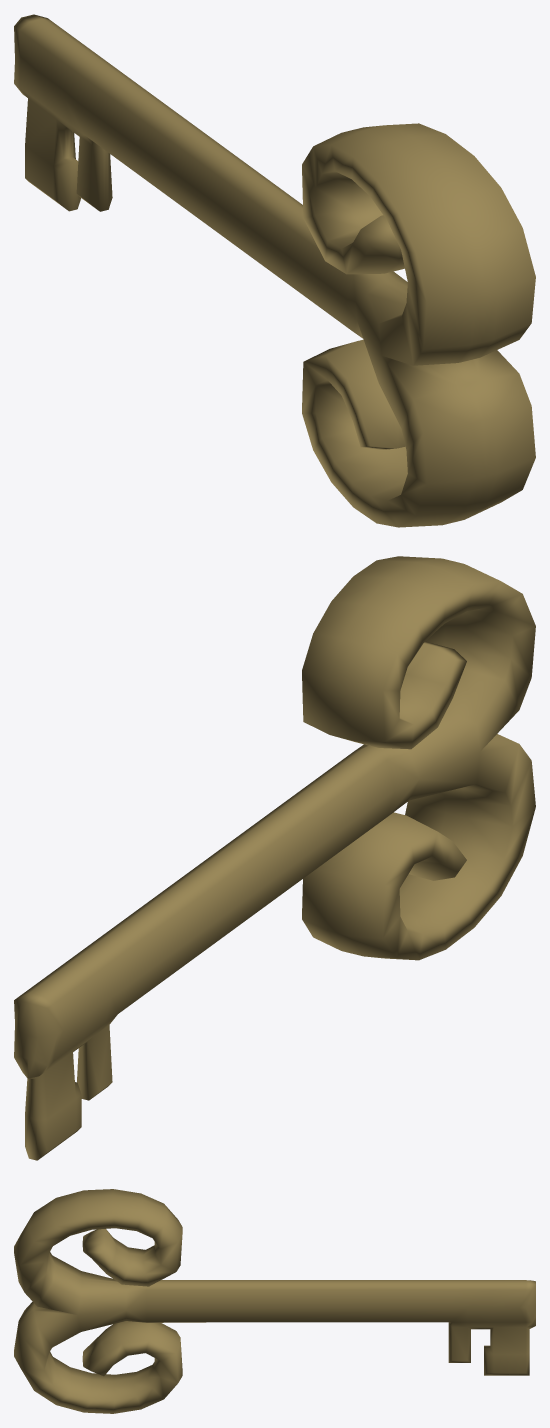
Rendered from Key.fbx.
3 views of the same model, one above another, from view 1: azimuth 30°, elevation 25°; view 2: azimuth 150°, elevation 25°; view 3: azimuth 270°, elevation 25° (orthographic). The views are drawn at different scales.
Parts seen in each view (by area): view 1: Padlock_Key; view 2: Padlock_Key; view 3: Padlock_Key.
Boxes of the visible parts, x1=… form: Padlock_Key: x1=14, y1=14, x2=535, y2=527; Padlock_Key: x1=14, y1=556, x2=535, y2=1160; Padlock_Key: x1=14, y1=1189, x2=535, y2=1413.
Bounding box in the file's own units: 119 × 379 × 870.
